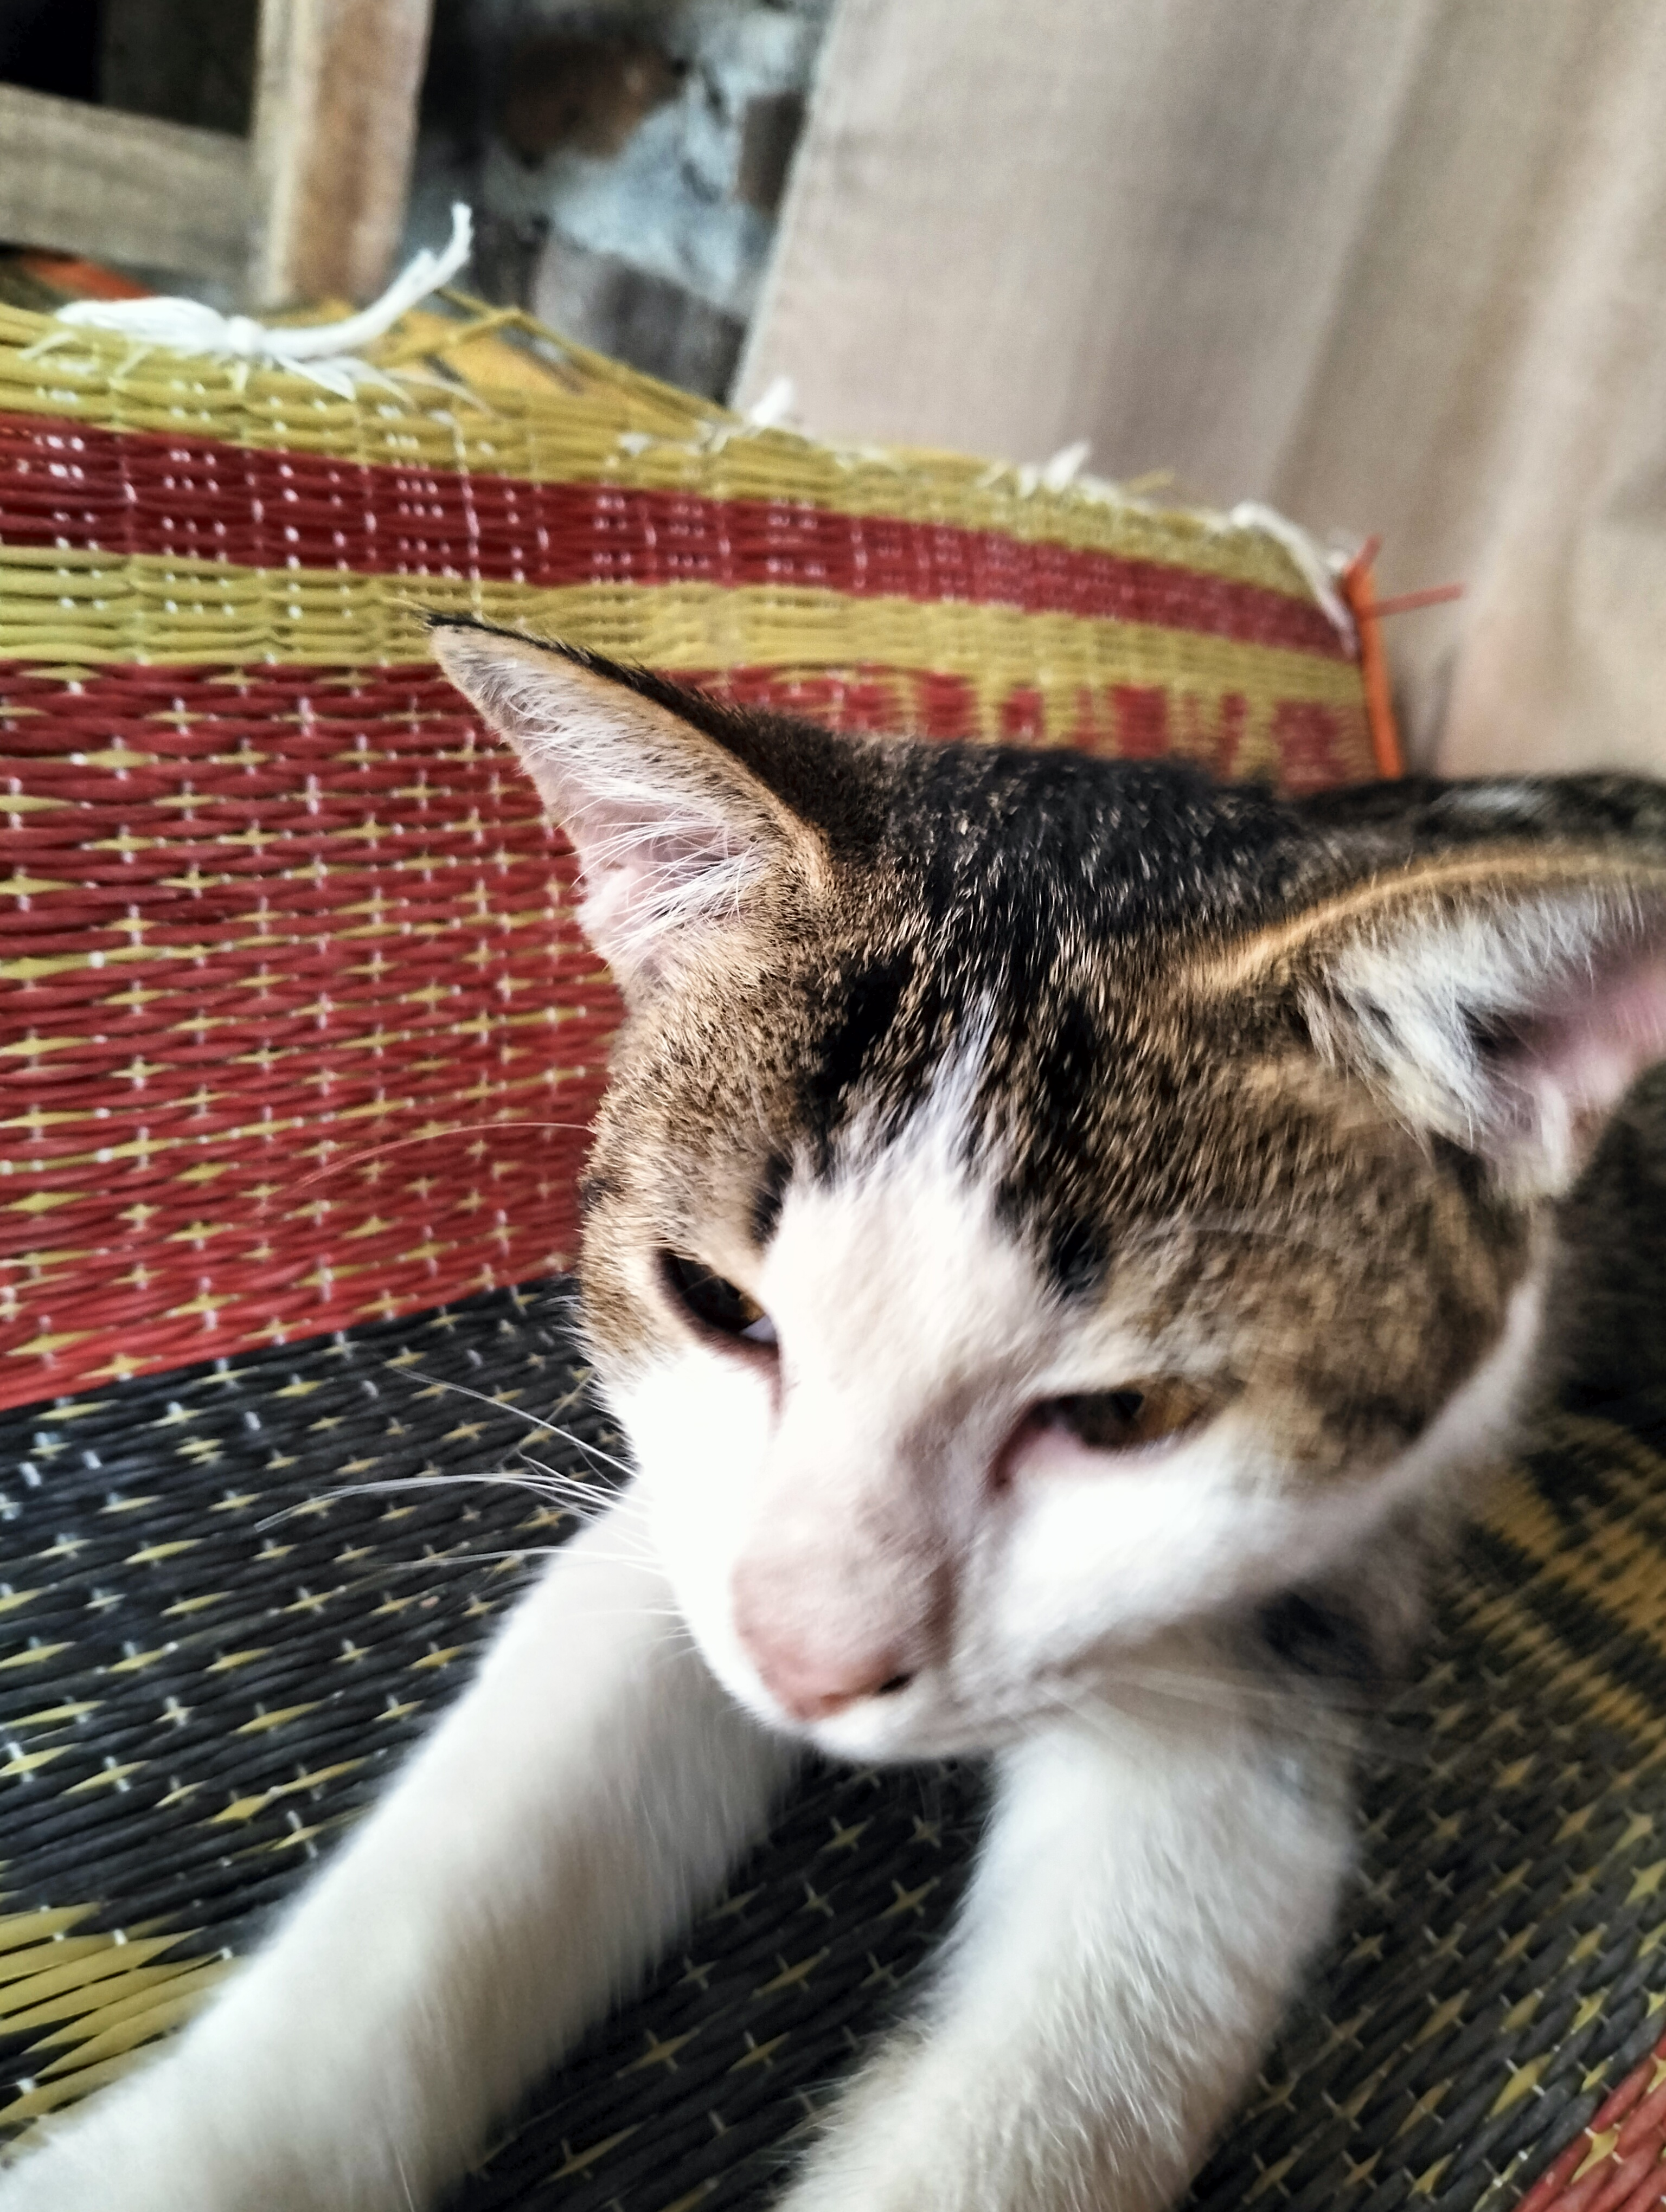miki: (303, 509, 1666, 1764)
